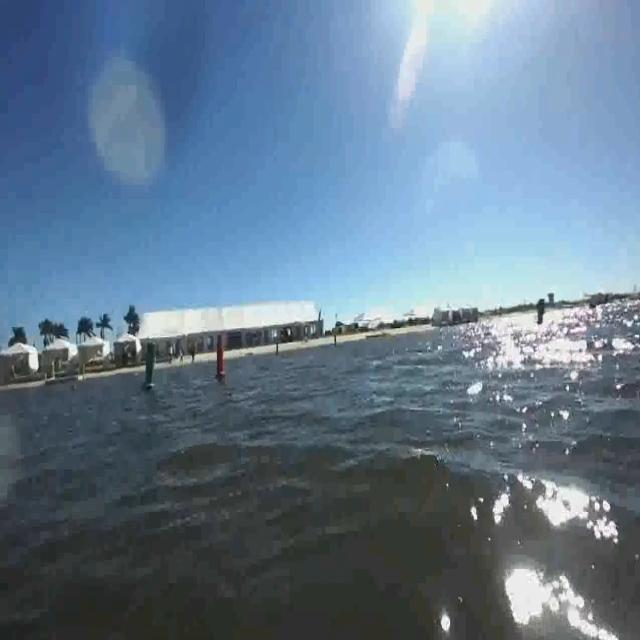green-column-buoy: (141, 342, 159, 392)
red-column-buoy: (214, 334, 228, 380)
